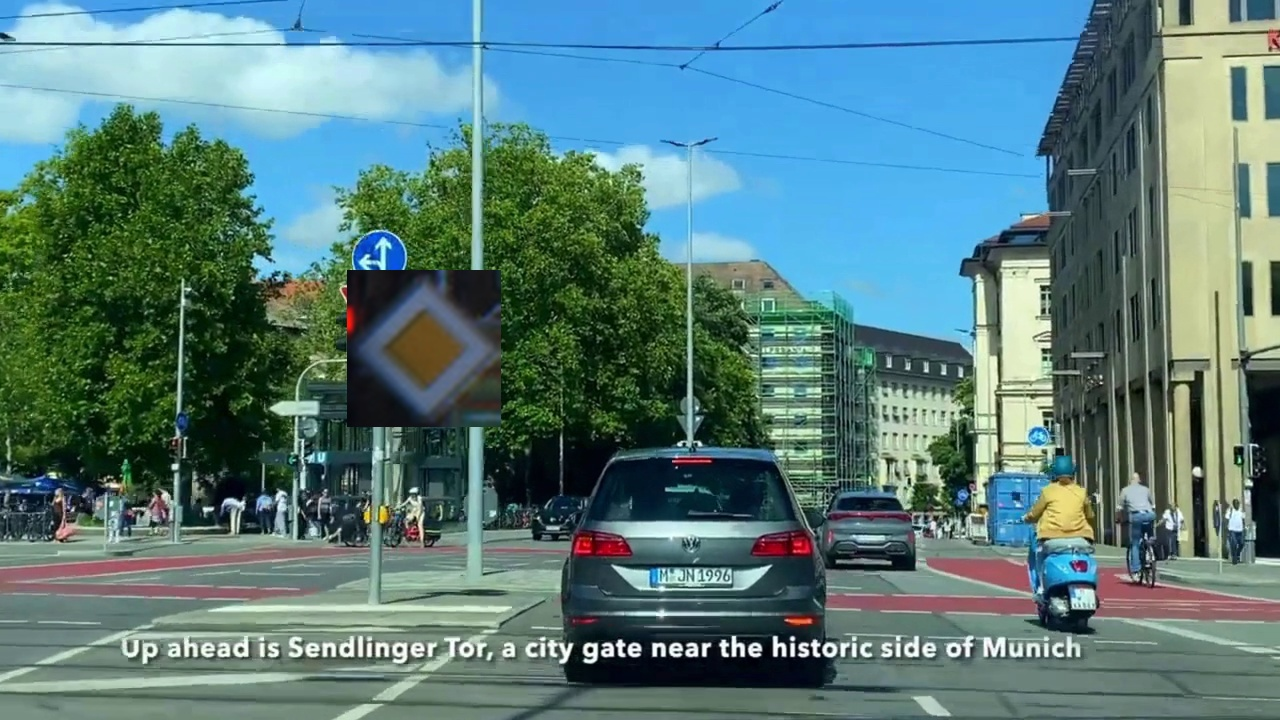Priority road: (347, 270, 501, 427)
